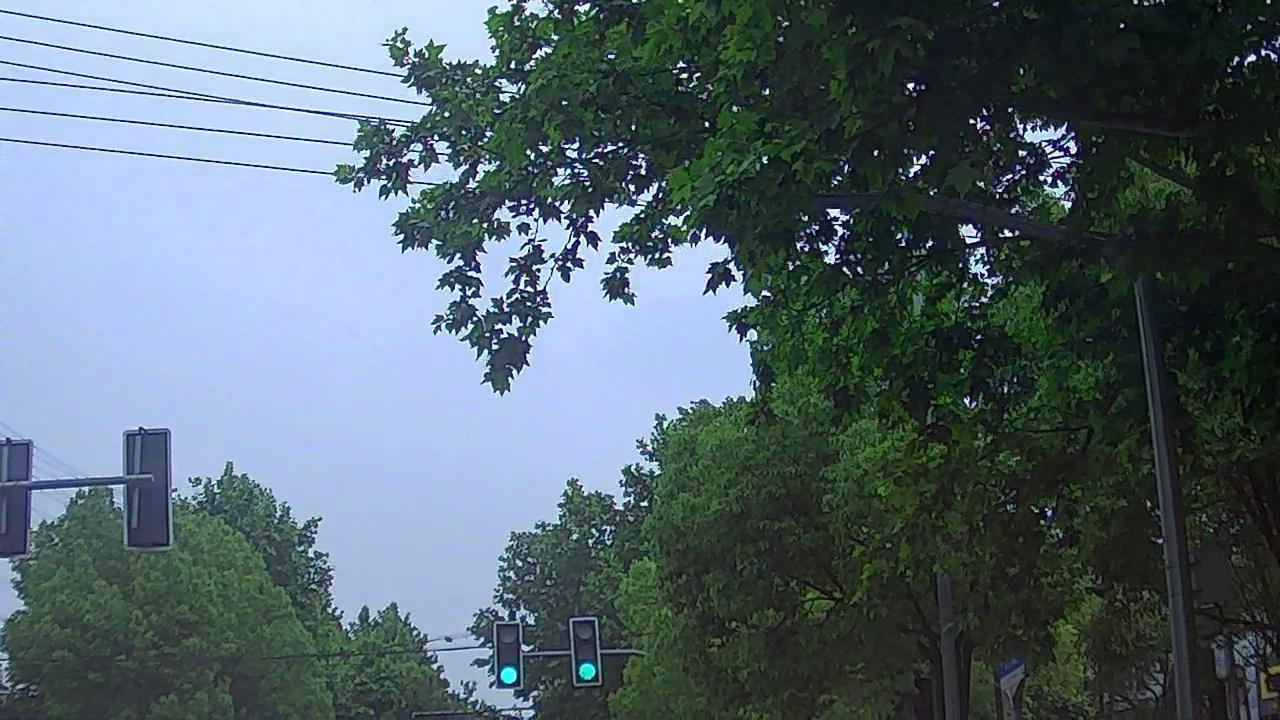traffic_light: (572, 616, 600, 683), (496, 622, 521, 689)
